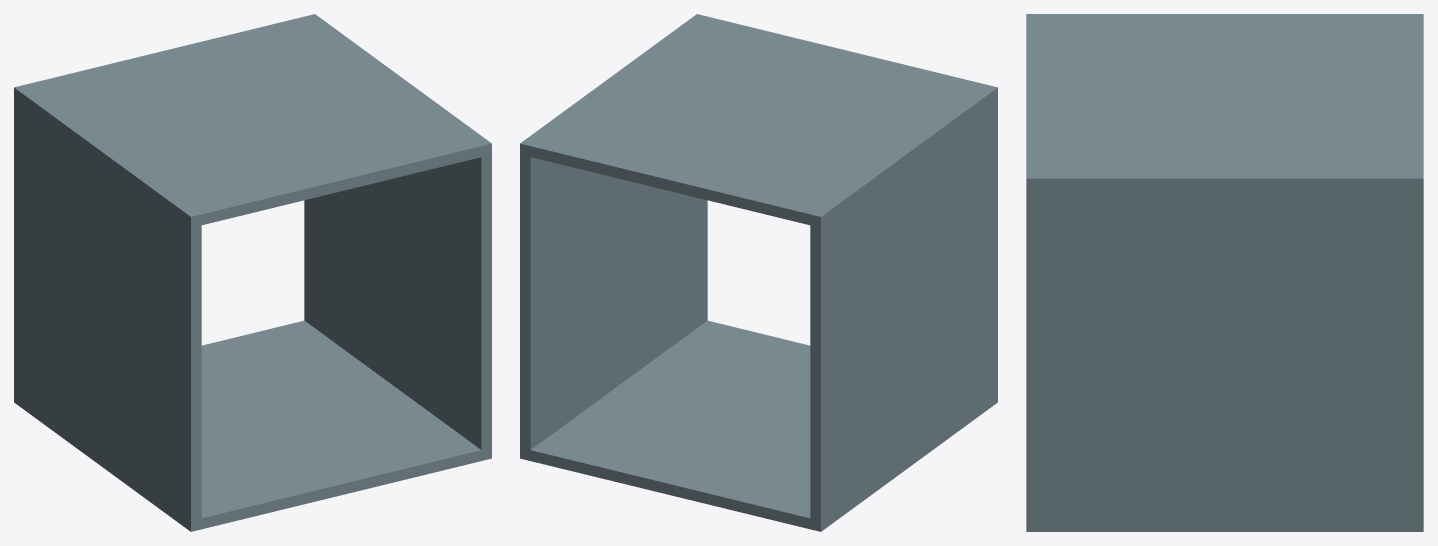
Rendered from esp2023_p08_paddle_culvert.glb.
The picture shows the model from 3 angles, left to right: view 1: azimuth 30°, elevation 25°; view 2: azimuth 150°, elevation 25°; view 3: azimuth 270°, elevation 25°; orthographic projection. The views are drawn at different scales.
Parts seen in each view (by area): view 1: paddle culvert; view 2: paddle culvert; view 3: paddle culvert.
Part boxes in pixels (left/top/right/bottom): paddle culvert: left=14, top=14, right=491, bottom=531; paddle culvert: left=520, top=14, right=997, bottom=531; paddle culvert: left=1026, top=14, right=1423, bottom=531.
Bounding box in the file's own units: 430 × 430 × 438.
